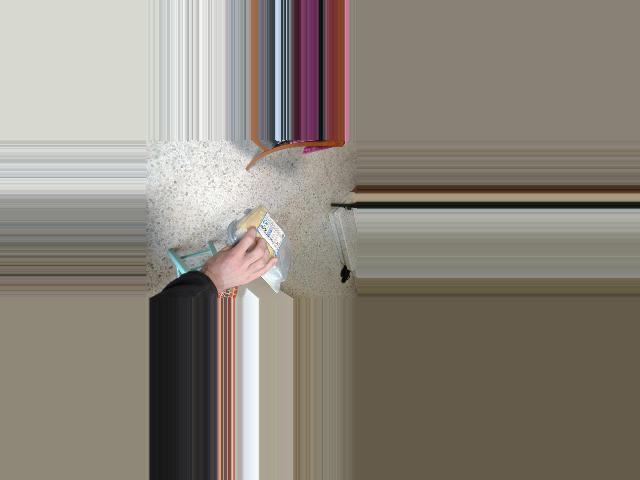cheese: (243, 194, 286, 293)
